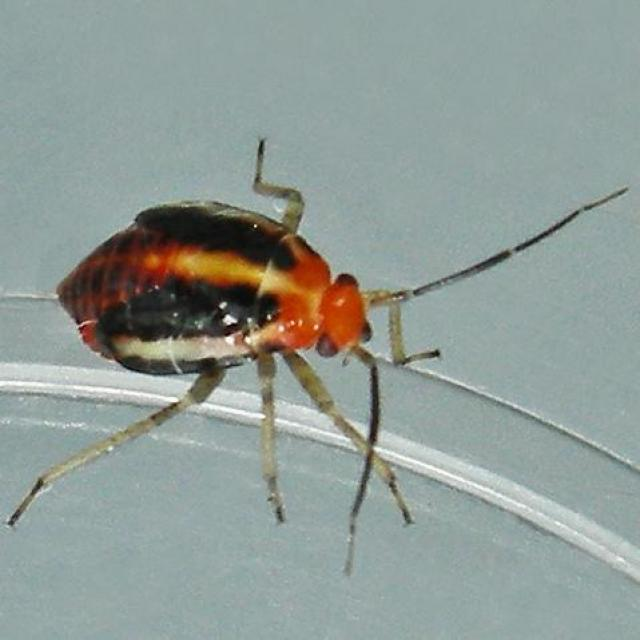Miridae-Adult-: (28, 133, 629, 554)
